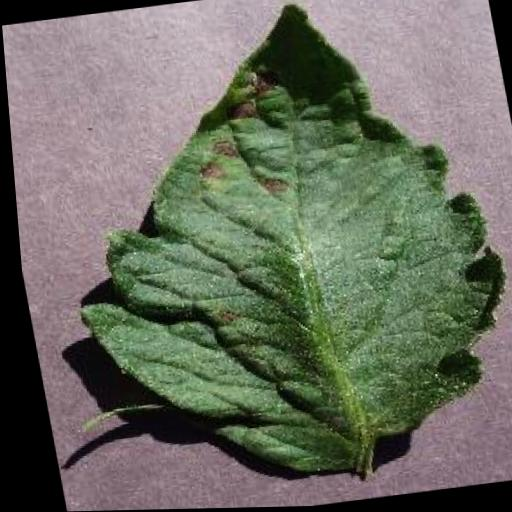Early Blight: (30, 0, 512, 505)
